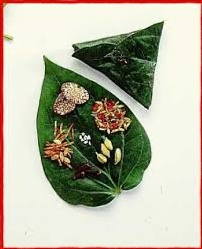bulathwita: (35, 54, 152, 210), (69, 20, 167, 111)
